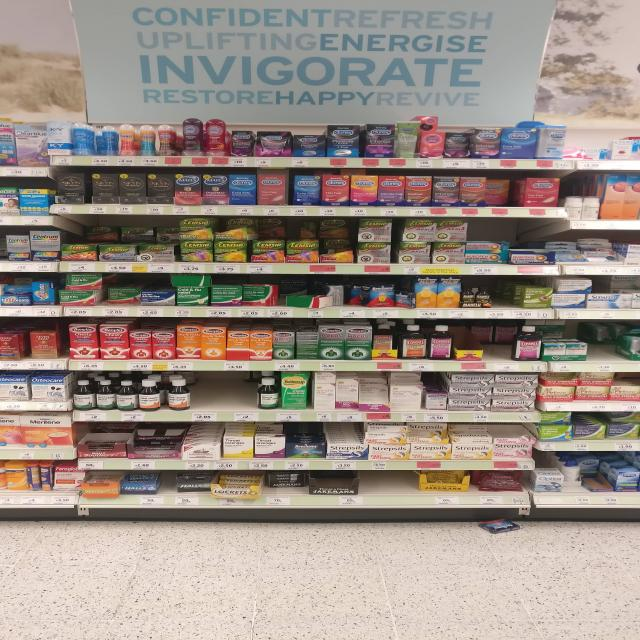void: (570, 122, 608, 170), (223, 374, 255, 421), (192, 373, 220, 421), (355, 470, 388, 508), (390, 471, 420, 508), (589, 326, 613, 372), (495, 278, 521, 319)
